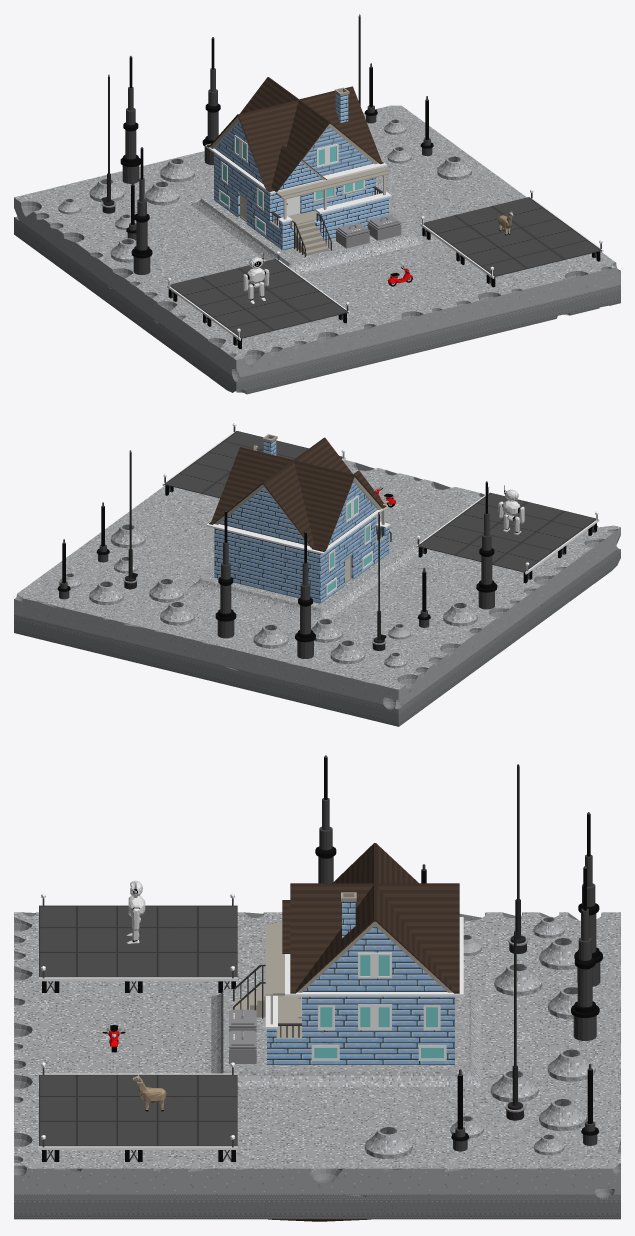
3 renders of one model, top to bottom at view 1: azimuth 30°, elevation 25°; view 2: azimuth 150°, elevation 25°; view 3: azimuth 270°, elevation 25°, orthographic. The views are drawn at different scales.
Visible parts, largest first — view 1: Cube.027, Cube.547, Cube.026, Cube.025, Cube.028, Cylinder.021, Cylinder.020, Cylinder.017, OBJRANDOM_PLATZEEBOT, Cube.029, Cube.030, Cylinder.027 (+3 smaller); view 2: Cube.027, Cube.547, Cube.025, Cube.028, Cube.026, Cylinder.017, Cylinder.021, Cylinder.020, OBJRANDOM_PLATZEEBOT, Cylinder.027, Cylinder.029, Cylinder.030 (+7 smaller); view 3: Cube.027, Cube.547, Cube.025, Cube.026, Cube.028, Cylinder.017, Cylinder.020, Cylinder.021, Cylinder.033, Cylinder.031, Cylinder.029, Cylinder.026 (+9 smaller).
Part boxes in pixels (left/top/right/bottom): Cube.027: left=14, top=105, right=620, bottom=394; Cube.547: left=205, top=77, right=391, bottom=256; Cube.026: left=420, top=189, right=603, bottom=287; Cube.025: left=167, top=251, right=349, bottom=348; Cube.028: left=191, top=195, right=424, bottom=273; Cylinder.021: left=131, top=147, right=152, bottom=274; Cylinder.020: left=120, top=56, right=140, bottom=183; Cylinder.017: left=202, top=37, right=220, bottom=165; OBJRANDOM_PLATZEEBOT: left=243, top=252, right=269, bottom=303; Cube.029: left=336, top=222, right=369, bottom=248; Cube.030: left=367, top=215, right=401, bottom=240; Cylinder.027: left=160, top=158, right=194, bottom=182; Cube.027: left=14, top=460, right=620, bottom=726; Cube.547: left=206, top=434, right=391, bottom=603; Cube.025: left=416, top=485, right=599, bottom=583; Cube.028: left=189, top=537, right=418, bottom=620; Cube.026: left=162, top=423, right=345, bottom=498; Cylinder.017: left=215, top=510, right=236, bottom=638; Cylinder.021: left=476, top=481, right=497, bottom=609; Cylinder.020: left=295, top=531, right=315, bottom=658; OBJRANDOM_PLATZEEBOT: left=498, top=485, right=524, bottom=534; Cylinder.027: left=253, top=624, right=288, bottom=648; Cylinder.029: left=160, top=601, right=194, bottom=625; Cylinder.030: left=149, top=578, right=183, bottom=602; Cube.027: left=14, top=912, right=620, bottom=1219; Cube.547: left=233, top=843, right=463, bottom=1064; Cube.025: left=39, top=893, right=237, bottom=992; Cube.026: left=39, top=1062, right=237, bottom=1161; Cube.028: left=211, top=989, right=481, bottom=1086; Cylinder.017: left=571, top=866, right=599, bottom=1040; Cylinder.020: left=574, top=812, right=602, bottom=986; Cylinder.021: left=315, top=755, right=336, bottom=883; Cylinder.033: left=364, top=1126, right=412, bottom=1158; Cylinder.031: left=539, top=1098, right=586, bottom=1130; Cylinder.029: left=547, top=1048, right=595, bottom=1081; Cylinder.026: left=494, top=962, right=542, bottom=995.
Size of the model in its own units: 4000 by 1865 by 4000.
Materials: 35 (5 with a texture image).
